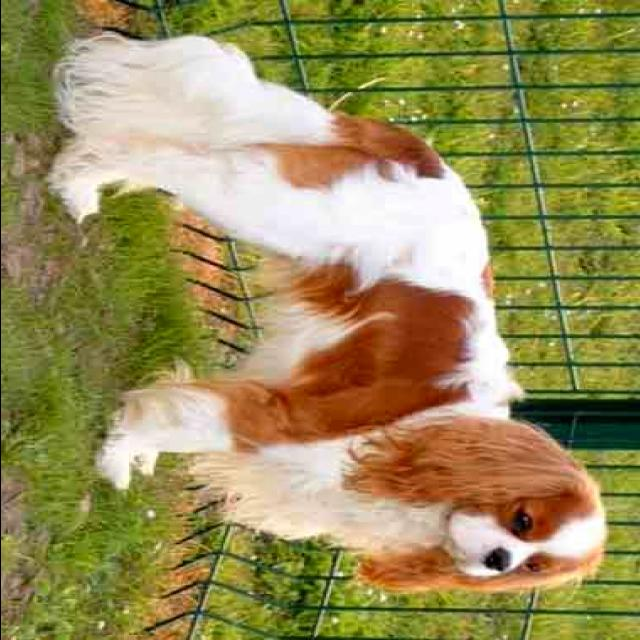blenheim_spaniel: (42, 31, 606, 595)
